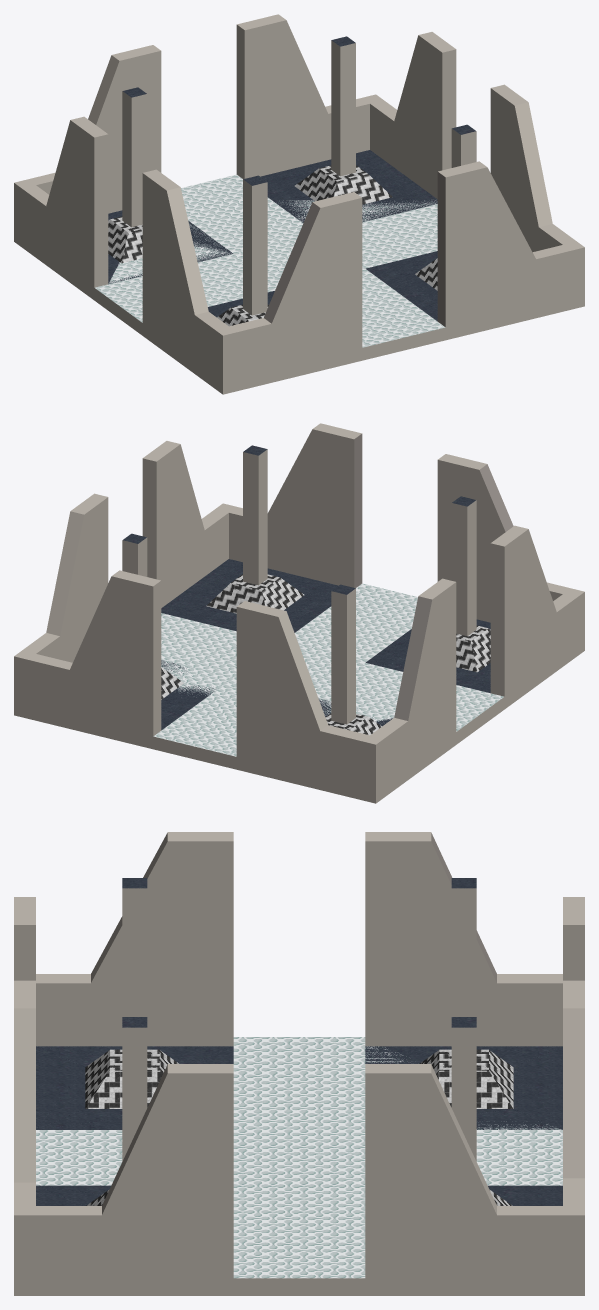
The model's file is SalaNumero1.fbx.
The picture shows the model from 3 angles, top to bottom: view 1: azimuth 30°, elevation 25°; view 2: azimuth 150°, elevation 25°; view 3: azimuth 270°, elevation 25°; orthographic projection. The views are drawn at different scales.
Parts seen in each view (by area): view 1: Mesh1; view 2: Mesh1; view 3: Mesh1.
Boxes of the visible parts, left/top/right/bottom form: Mesh1: left=14, top=14, right=584, bottom=394; Mesh1: left=14, top=423, right=584, bottom=803; Mesh1: left=14, top=832, right=584, bottom=1295.
Bounding box in the file's own units: 9.62 × 4.14 × 9.62.
